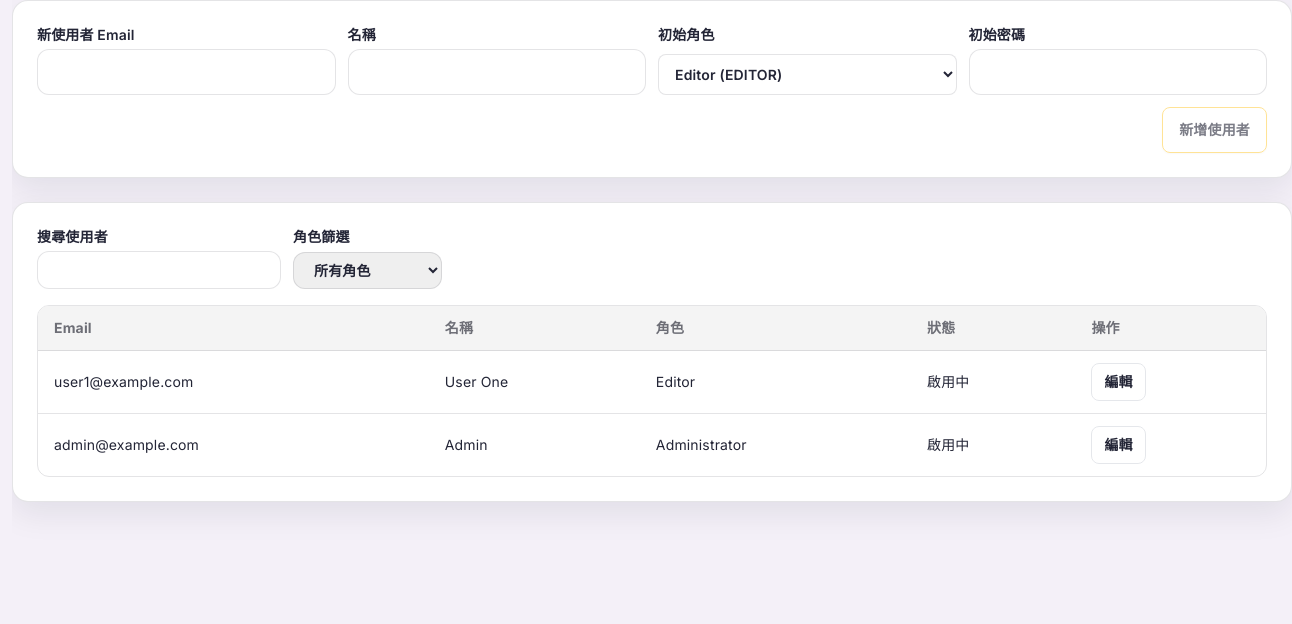
Scenario: UserAdminClient › 仍可建立新使用者
Type "new@example.com" into the field labelled "新使用者 Email" at (186, 72), box 37,49 -> 336,95
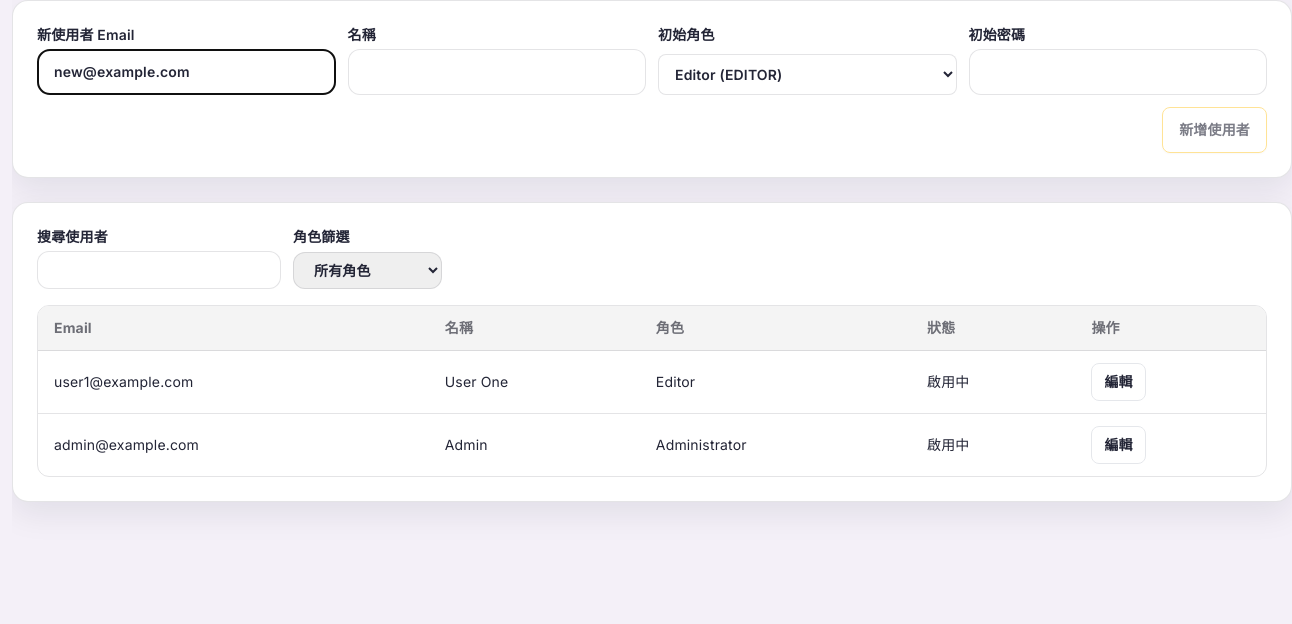
Type "password" into the password field labelled "初始密碼" at (1118, 72), box 968,49 -> 1267,95
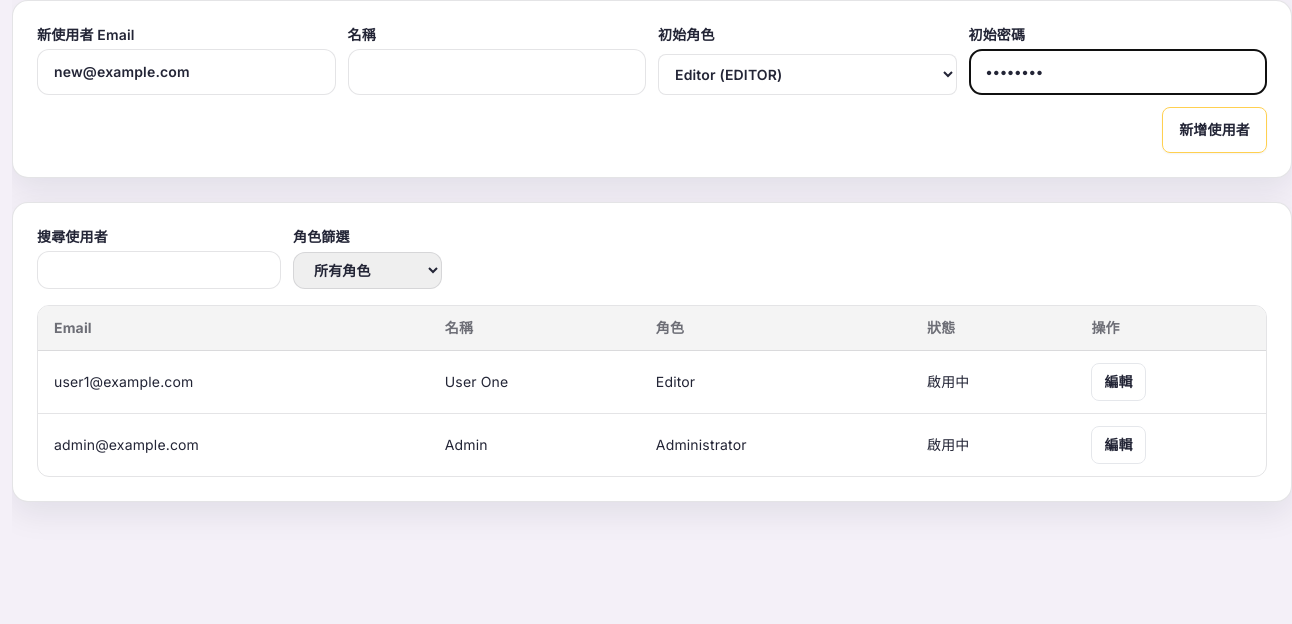
Click the button "新增使用者" at (1215, 130), box 1162,107 -> 1267,153
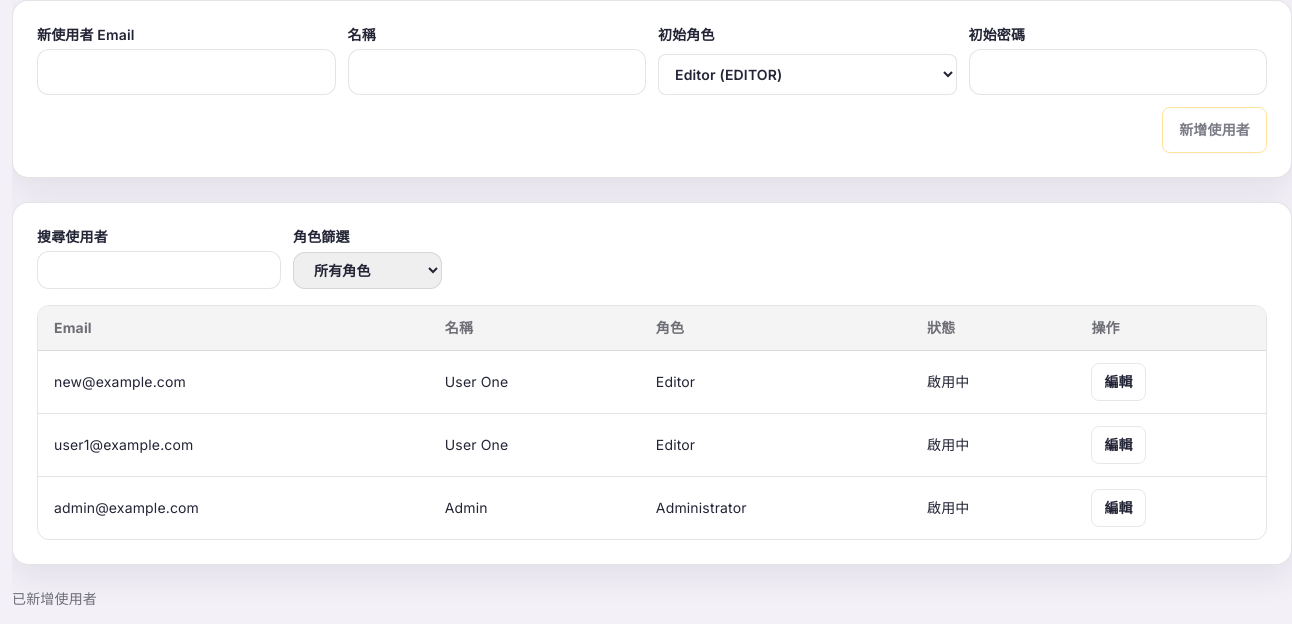
Check: the text "已新增使用者" is shown, box 12,590 -> 97,607
